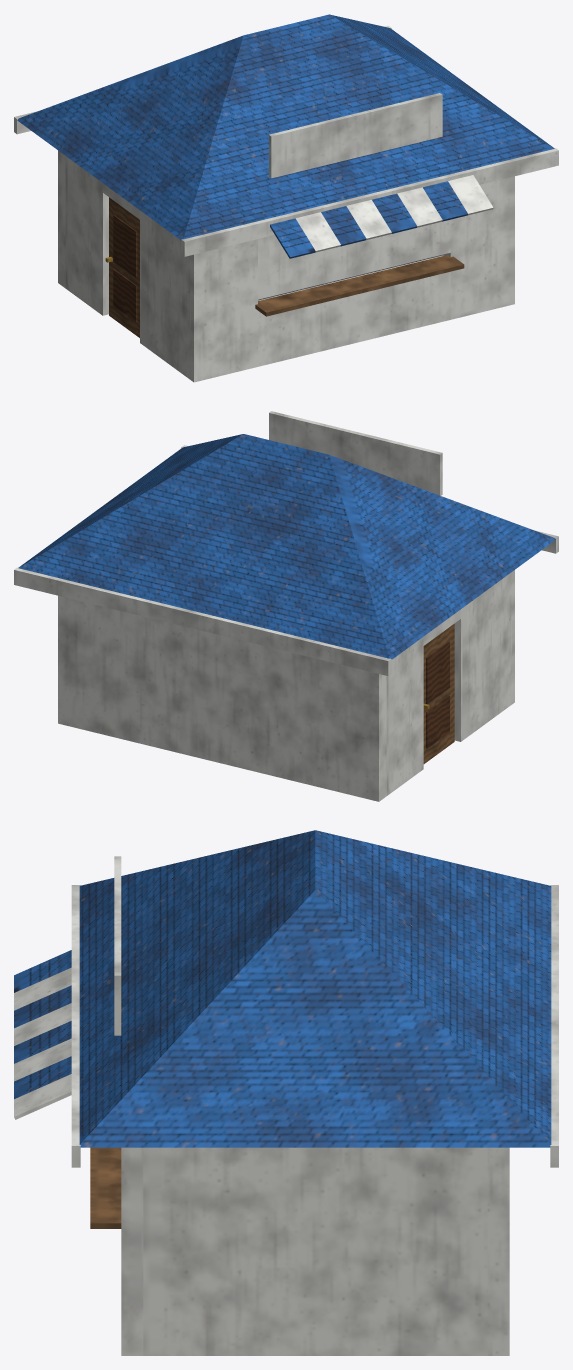
File: Kiosk_Blue.fbx
3 views of the same model, one above another, from view 1: azimuth 30°, elevation 25°; view 2: azimuth 150°, elevation 25°; view 3: azimuth 270°, elevation 25° (orthographic). The views are drawn at different scales.
Parts seen in each view (by area): view 1: Roof, Walls, Awning_Sign, Counter, Door_Kiosk_Blue; view 2: Roof, Walls, Awning_Sign, Door_Kiosk_Blue; view 3: Roof, Walls, Awning_Sign, Counter.
Part boxes in pixels (x1,y1,x2,y2): Roof: [14, 14, 558, 256]; Walls: [58, 150, 514, 382]; Awning_Sign: [269, 93, 493, 258]; Counter: [255, 254, 464, 316]; Door_Kiosk_Blue: [105, 197, 139, 337]; Roof: [14, 434, 558, 676]; Walls: [58, 570, 514, 801]; Awning_Sign: [269, 411, 442, 495]; Door_Kiosk_Blue: [423, 623, 454, 763]; Roof: [71, 830, 558, 1167]; Walls: [121, 1147, 509, 1355]; Awning_Sign: [14, 856, 121, 1119]; Counter: [90, 1147, 121, 1228].
Bounding box in the file's own units: 7 × 4.8 × 6.18.
